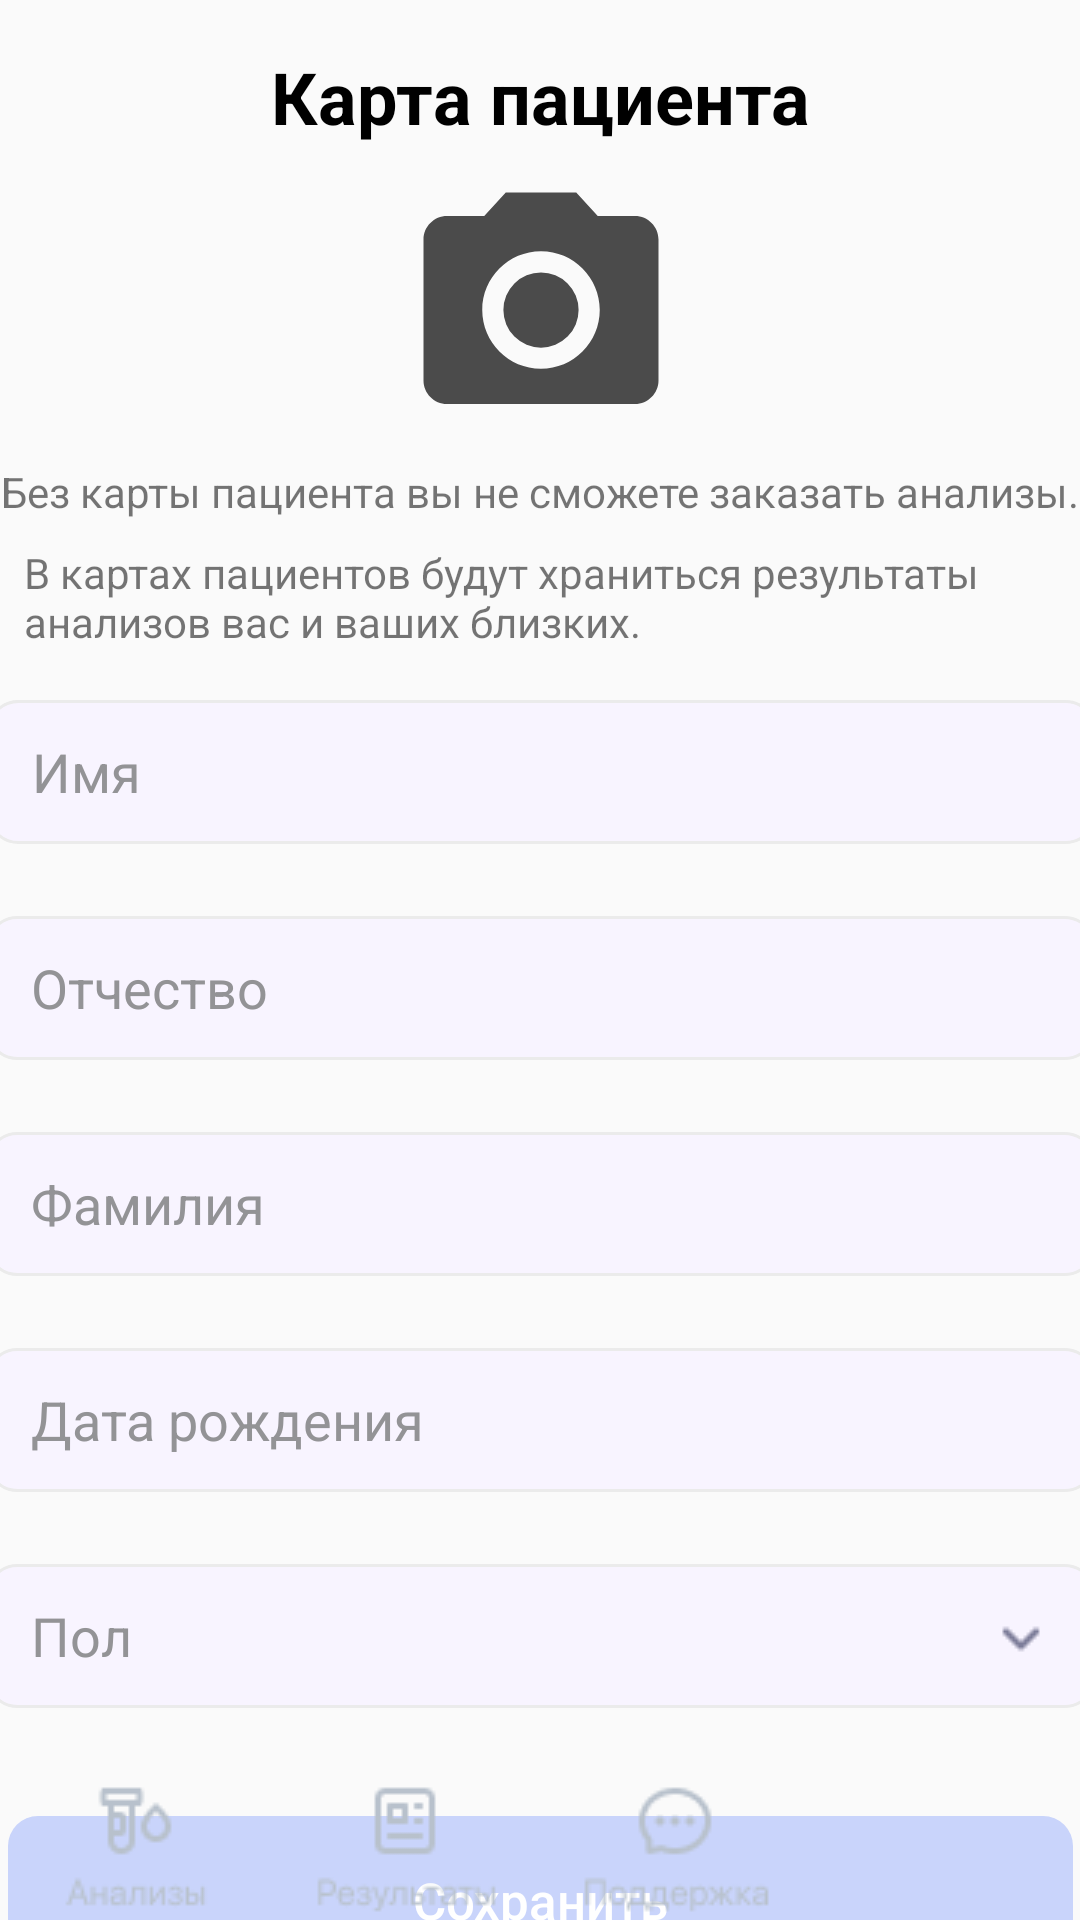

Icons on this 1080 × 1920 Android screen, each with the point to tap as (x=x, y=y):
photo camera: (x=541, y=298)
